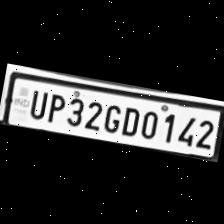0: (136, 105, 161, 140)
1: (156, 107, 177, 142)
2: (80, 95, 104, 131), (192, 113, 214, 149)
3: (62, 92, 86, 127)
4: (174, 110, 198, 146)
D: (117, 101, 141, 137)
G: (100, 99, 123, 133)
P: (42, 88, 66, 124)
U: (23, 84, 48, 119)
